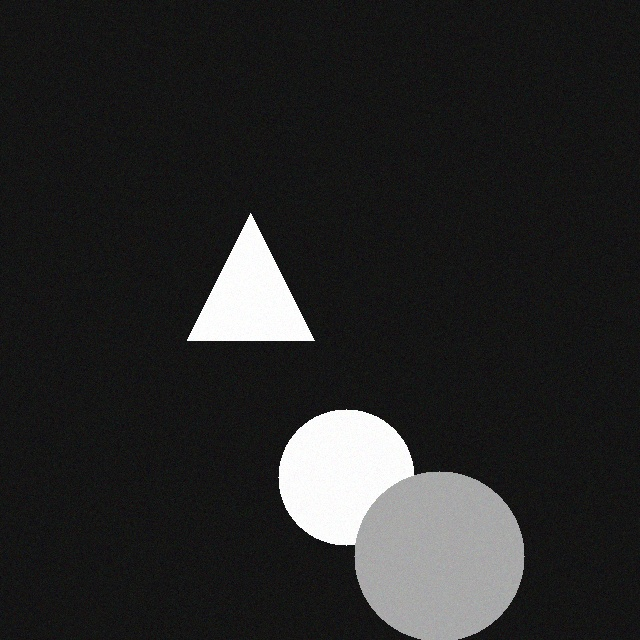circle: (367, 468, 537, 638), (291, 406, 427, 542)
triangle: (200, 210, 327, 337)
